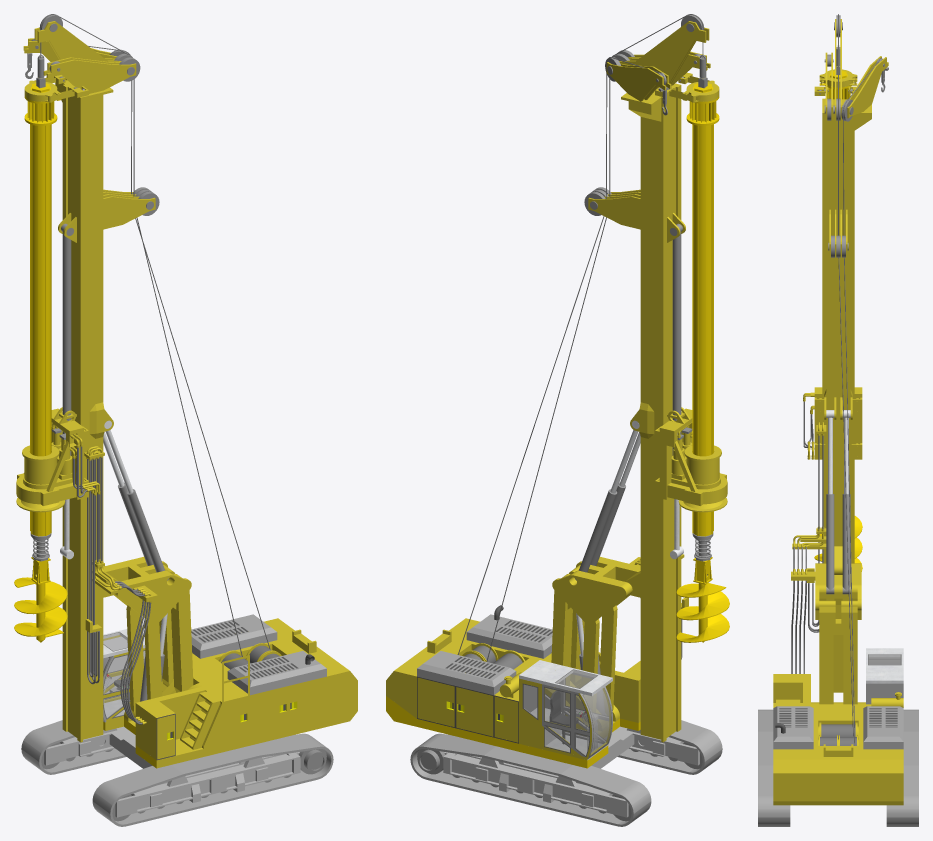
File: drill-rig-rotary.glb
3 renders of one model, left to right at view 1: azimuth 30°, elevation 25°; view 2: azimuth 150°, elevation 25°; view 3: azimuth 270°, elevation 25°, orthographic. The views are drawn at different scales.
Parts seen in each view (by area): view 1: Geom3D_15, Geom3D_20, Geom3D_26, Geom3D_4, Geom3D_19, Geom3D_35, Geom3D__9, Geom3D_14, Geom3D_23, Geom3D_27, Geom3D_28, Geom3D_18 (+4 smaller); view 2: Geom3D_15, Geom3D_20, Geom3D_26, Geom3D_4, Geom3D_19, Geom3D__9, Geom3D_28, Geom3D_27, Geom3D_14, Geom3D_23, Geom3D_24, Geom3D_18 (+5 smaller); view 3: Geom3D_15, Geom3D_20, Geom3D_26, Geom3D_35, Geom3D_27, Geom3D_23, Geom3D__9, Geom3D_14, Geom3D_18, Geom3D_7, Geom3D_29, Geom3D_4 (+2 smaller).
Part boxes in pixels (box(x1,y1,x2,y2)): Geom3D_15: box(23, 21, 155, 742); Geom3D_20: box(103, 556, 357, 768); Geom3D_26: box(21, 614, 333, 826); Geom3D_4: box(14, 83, 67, 642); Geom3D_19: box(44, 685, 300, 817); Geom3D_35: box(32, 39, 270, 724); Geom3D__9: box(16, 407, 100, 509); Geom3D_14: box(31, 15, 159, 455); Geom3D_23: box(41, 482, 326, 821); Geom3D_27: box(103, 420, 167, 722); Geom3D_28: box(103, 632, 145, 718); Geom3D_18: box(114, 620, 314, 760); Geom3D_15: box(588, 21, 710, 742); Geom3D_20: box(386, 556, 640, 760); Geom3D_26: box(410, 614, 722, 826); Geom3D_4: box(676, 83, 729, 642); Geom3D_19: box(443, 710, 699, 817); Geom3D__9: box(655, 407, 727, 509); Geom3D_28: box(523, 670, 611, 755); Geom3D_27: box(519, 420, 640, 760); Geom3D_14: box(584, 15, 704, 455); Geom3D_23: box(417, 482, 702, 821); Geom3D_24: box(386, 696, 640, 768); Geom3D_18: box(417, 605, 586, 744); Geom3D_15: box(792, 19, 888, 692); Geom3D_20: box(773, 563, 903, 805); Geom3D_26: box(758, 657, 918, 826); Geom3D_35: box(791, 58, 881, 745); Geom3D_27: box(826, 410, 903, 683); Geom3D_23: box(826, 494, 850, 594); Geom3D__9: box(803, 387, 862, 459); Geom3D_14: box(824, 15, 884, 257); Geom3D_18: box(775, 708, 897, 733); Geom3D_7: box(838, 14, 853, 736); Geom3D_29: box(820, 654, 901, 745); Geom3D_4: box(814, 70, 862, 571).
Size of the model in its own units: 7.9 by 19.54 by 4.
Materials: 12 (1 with a texture image).
